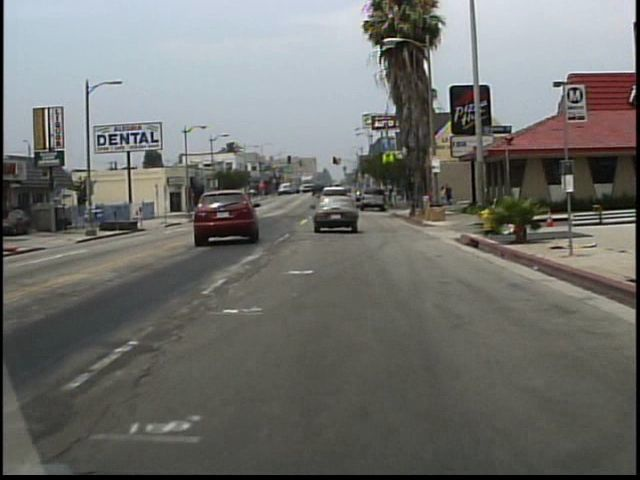person: (445, 183, 453, 207), (440, 185, 447, 208)
